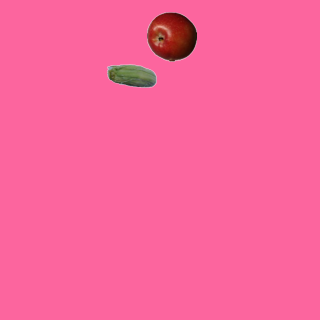Apple Braeburn: (146, 11, 196, 61)
Corn Husk: (106, 52, 156, 102)
